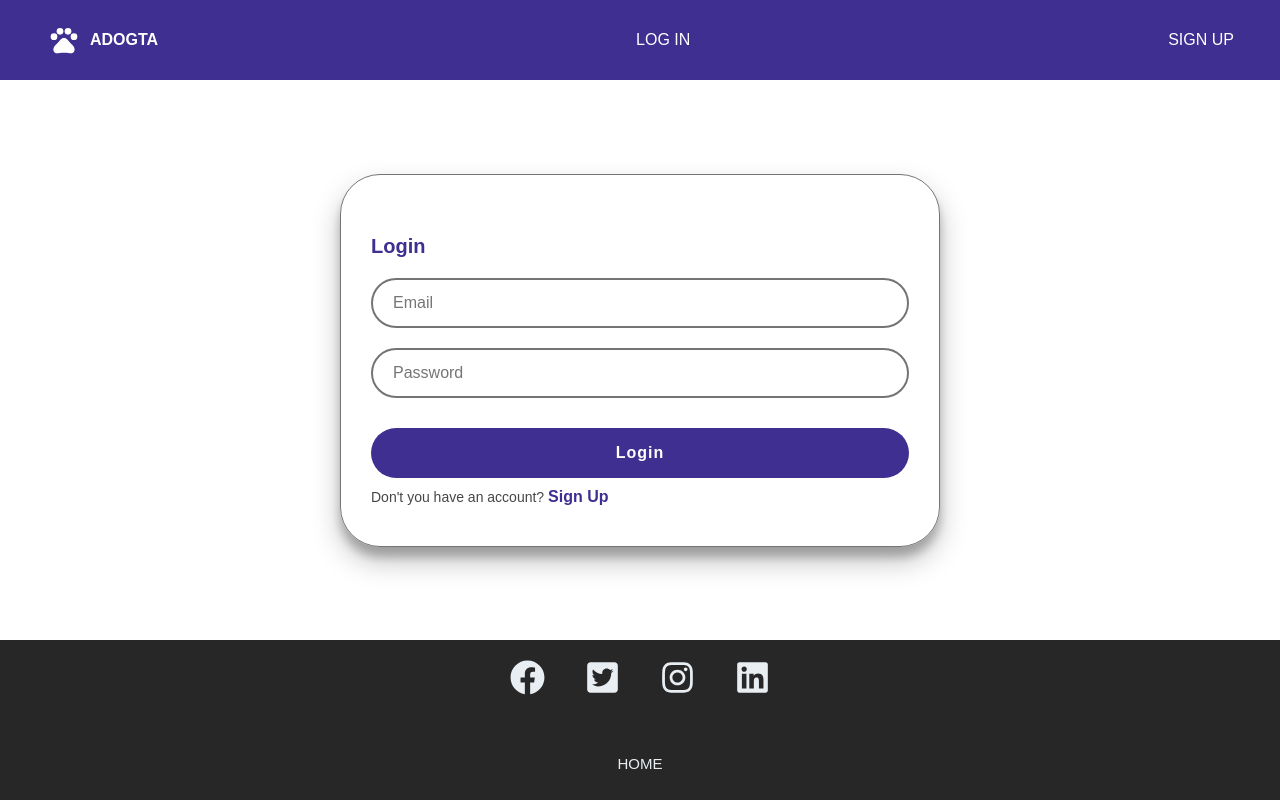
Test case: Login Tests › Redirects to Sign Up
Click the link to "/signup" at (578, 497), box [548,488,608,505]
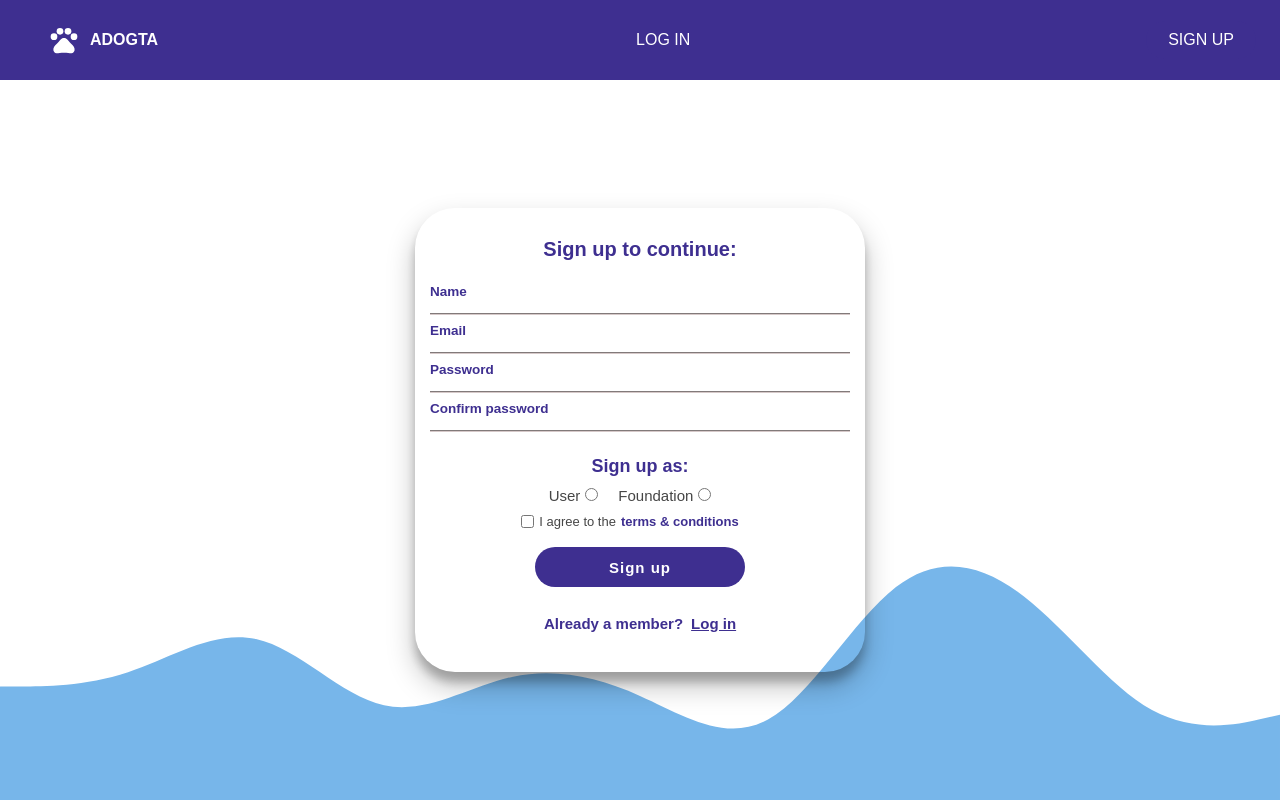
Check: the heading "Sign up to continue:" is shown, box [543,238,737,260]
